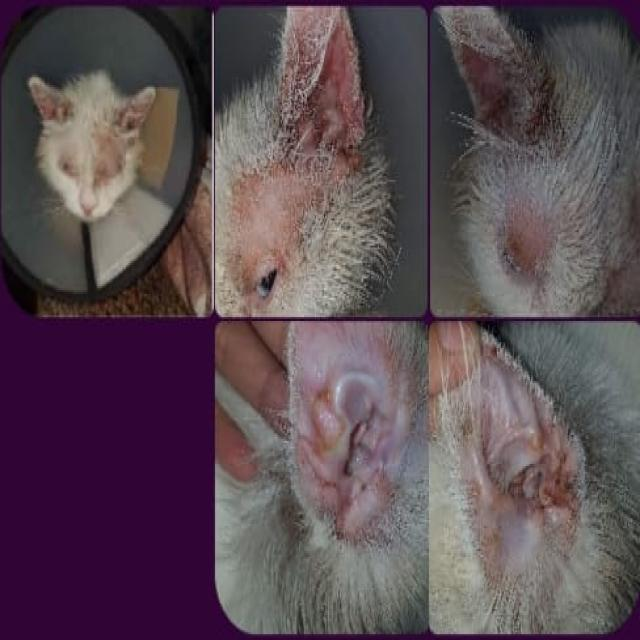Mange: (236, 178, 300, 252), (504, 206, 549, 273), (96, 139, 124, 175)
